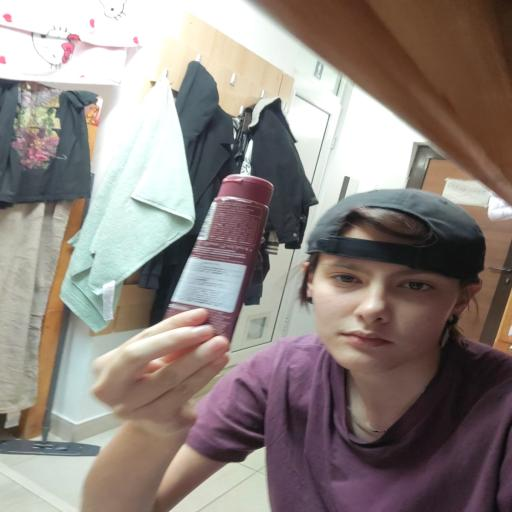Crema Maini: (160, 175, 273, 348)
